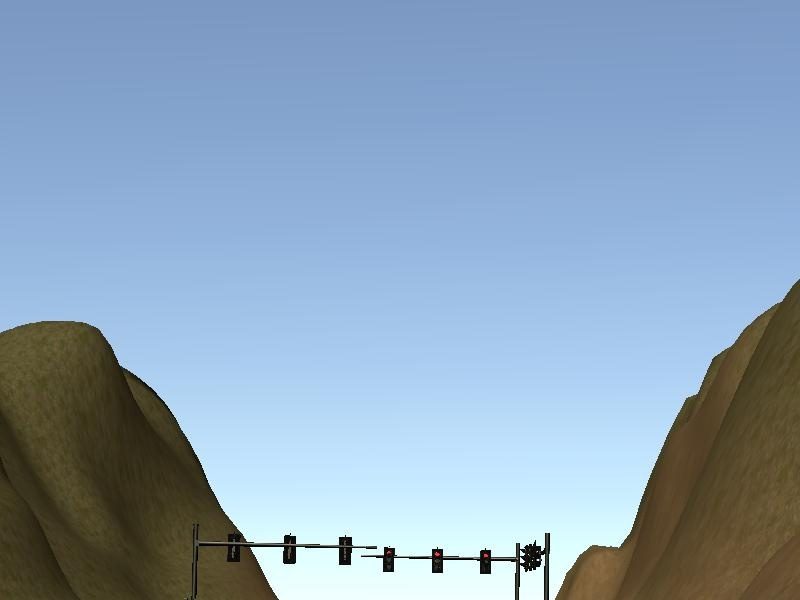traffic_light_red: (375, 546, 515, 575)
